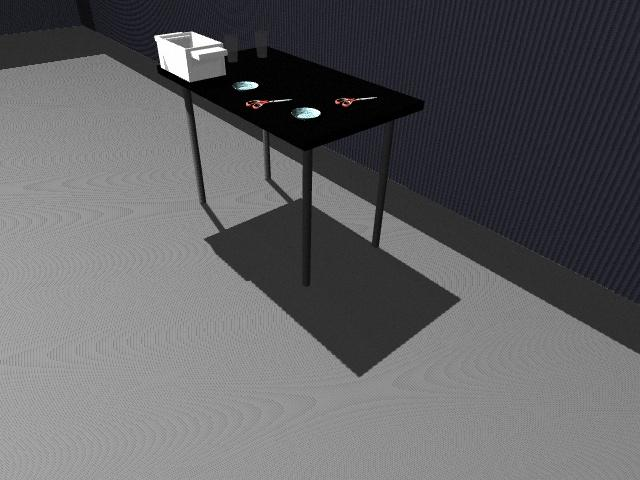cup: (224, 32, 240, 62), (254, 29, 268, 58)
plate: (291, 107, 321, 119), (232, 80, 260, 91)
scissors: (246, 98, 291, 108), (335, 97, 375, 107)
